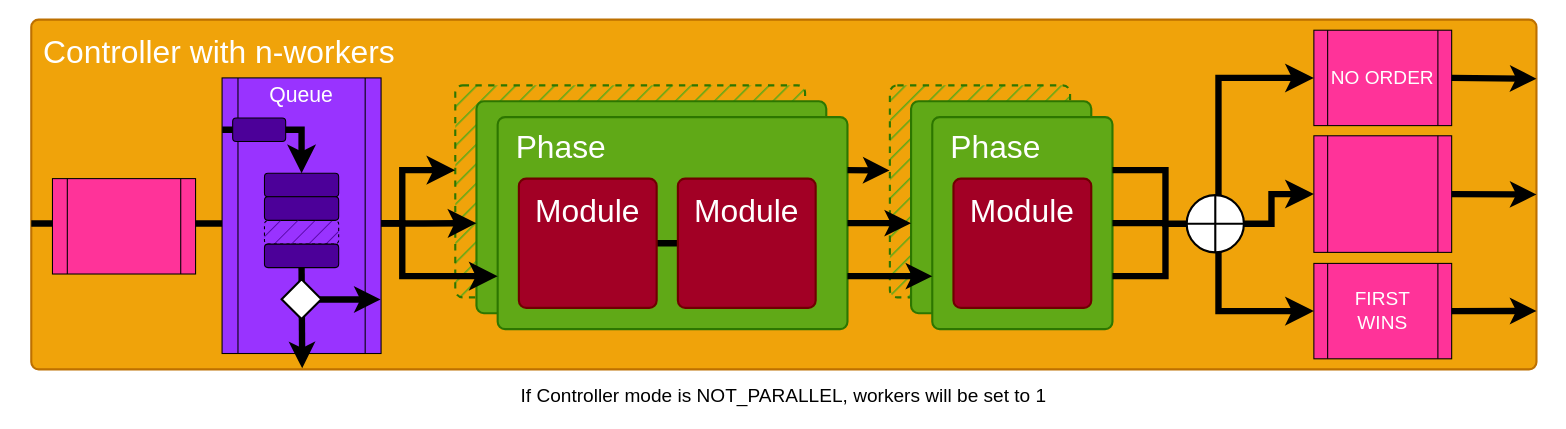
The diagram is 1566 pixels wide and 429 high, and some of its shapes have lost their labels. Each missing label, with the centre of its shape:
Add Sequence-Number: pixel 123 226
ORDER BY SEQUENCE & NOT PARALLEL: pixel 1382 193
